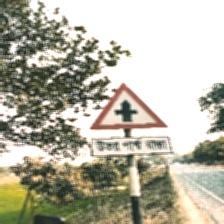Crossroad: (89, 83, 173, 158)
